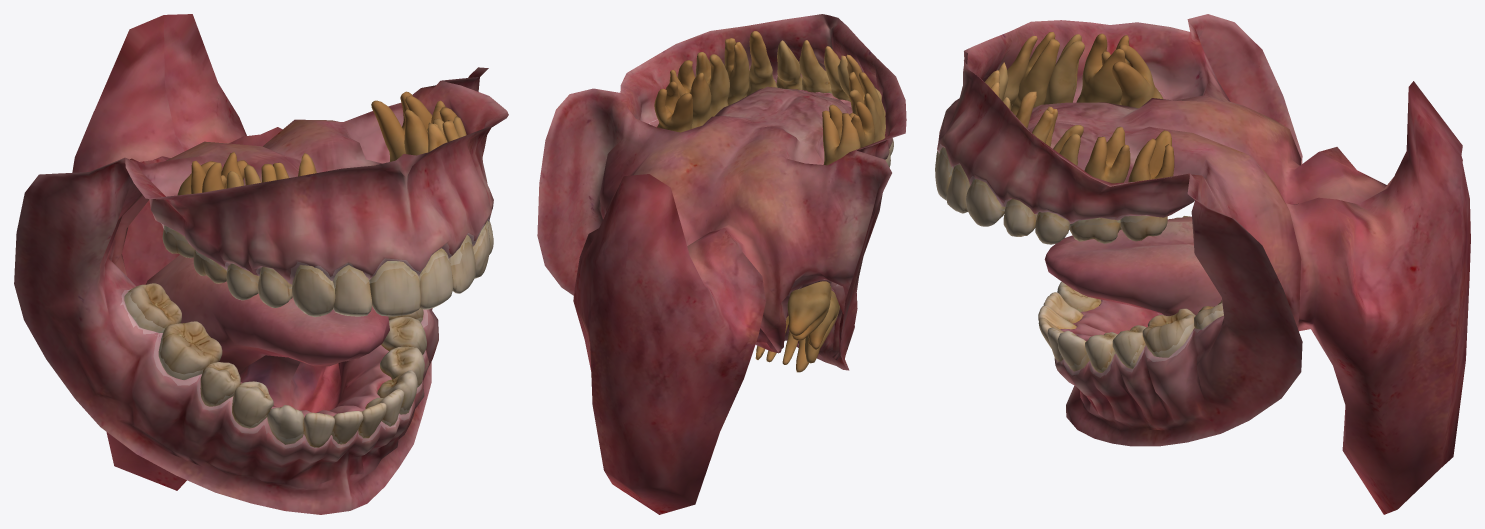
File: mouth.glb
3 views of the same model, side by side, from view 1: azimuth 30°, elevation 25°; view 2: azimuth 150°, elevation 25°; view 3: azimuth 270°, elevation 25° (orthographic). The views are drawn at different scales.
Parts seen in each view (by area): view 1: mouth_0, teeth_upper, teeth_lower, wet_2; view 2: mouth_0, teeth_upper, teeth_lower; view 3: mouth_0, teeth_upper, teeth_lower, wet_2.
Part boxes in pixels (<box>): mouth_0: <box>14,14,508,514</box>; teeth_upper: <box>162,91,493,317</box>; teeth_lower: <box>124,283,426,447</box>; wet_2: <box>121,219,488,448</box>; mouth_0: <box>537,14,906,514</box>; teeth_upper: <box>654,31,893,167</box>; teeth_lower: <box>755,281,839,372</box>; mouth_0: <box>937,14,1470,514</box>; teeth_upper: <box>935,32,1174,244</box>; teeth_lower: <box>1038,216,1223,372</box>; wet_2: <box>938,91,1223,377</box>.
Size of the model in its own units: 0.2433 by 0.2663 by 0.2801.
3 materials, 2 textured.
